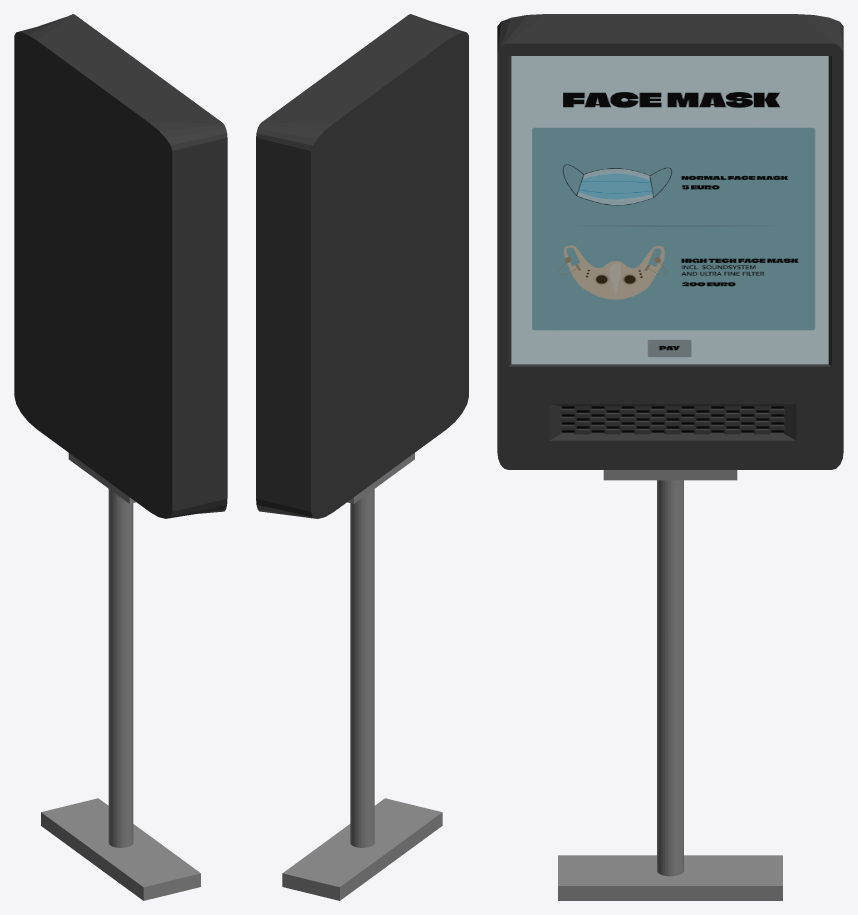
Rendered from praatpaal.fbx.
3 renders of one model, left to right at view 1: azimuth 30°, elevation 25°; view 2: azimuth 150°, elevation 25°; view 3: azimuth 270°, elevation 25°, orthographic. The views are drawn at different scales.
Visible parts, largest first — view 1: Cube.002, Cylinder, Cube, Cube.001; view 2: Cube.002, Cylinder, Cube, Cube.001; view 3: bordmaskers, Cube.002, Cylinder, Cube, Cube.001.
Boxes of the visible parts, x1=… form: Cube.002: x1=14, y1=14, x2=227, y2=518; Cylinder: x1=108, y1=489, x2=133, y2=847; Cube: x1=41, y1=798, x2=200, y2=900; Cube.001: x1=68, y1=453, x2=135, y2=503; Cube.002: x1=256, y1=14, x2=468, y2=518; Cylinder: x1=350, y1=489, x2=374, y2=847; Cube: x1=282, y1=798, x2=442, y2=900; Cube.001: x1=347, y1=453, x2=414, y2=503; bordmaskers: x1=511, y1=56, x2=828, y2=364; Cube.002: x1=497, y1=14, x2=843, y2=469; Cylinder: x1=657, y1=480, x2=683, y2=876; Cube: x1=558, y1=855, x2=782, y2=900; Cube.001: x1=603, y1=470, x2=737, y2=480.
Bounding box in the file's own units: 102 × 1327 × 486.
